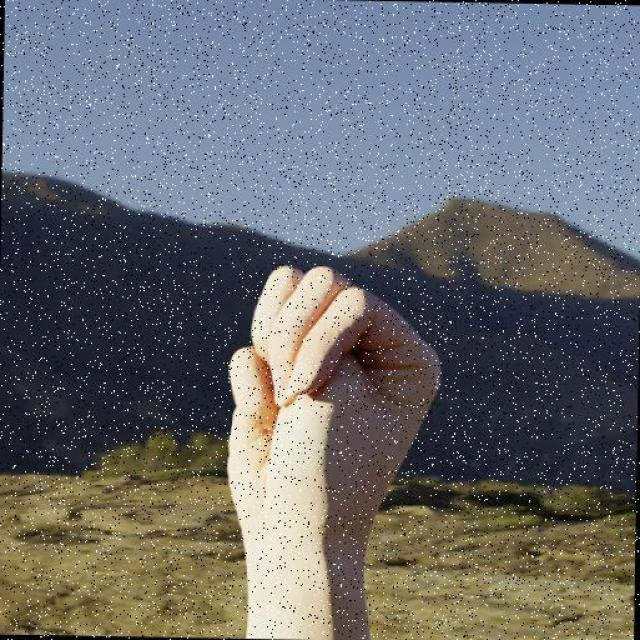M: (222, 258, 448, 544)
